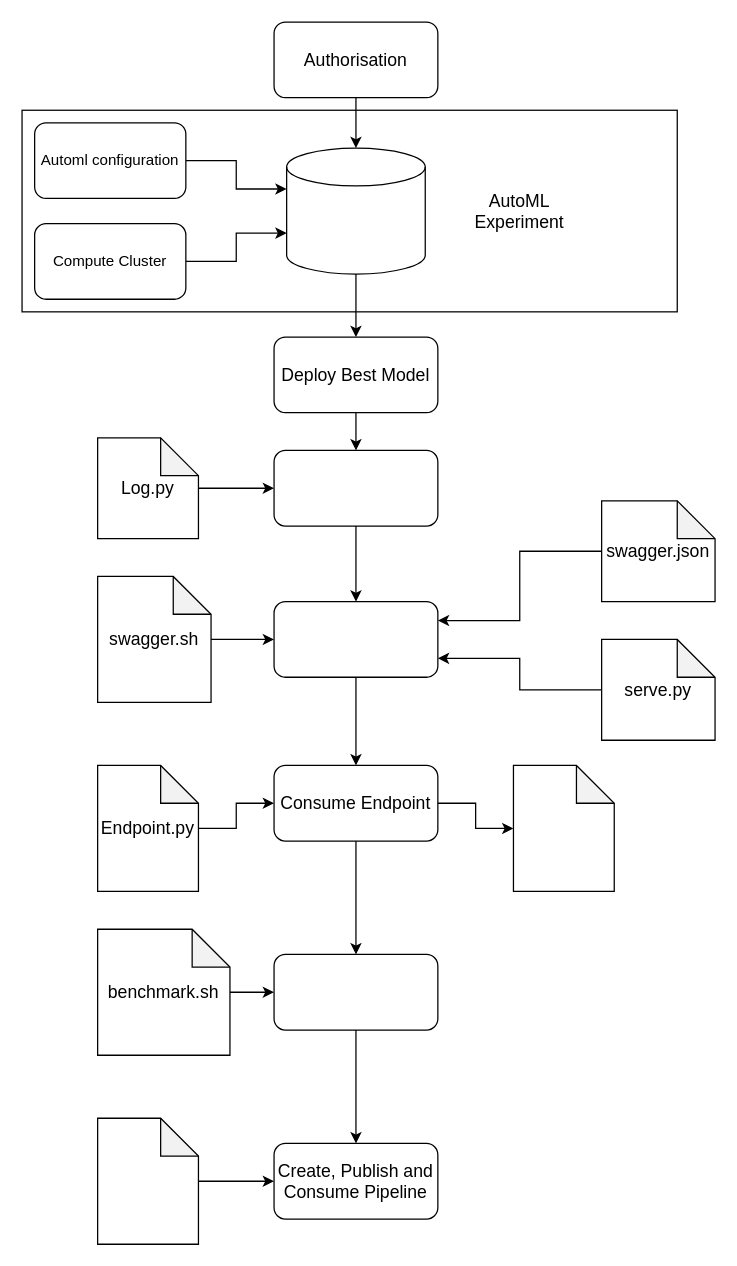
Some shapes in this 737 by 1266 pixel diagram are drawn without their labels. Each missing label, with the centre of its shape:
"Bank Dataset" belongs at point 355,210.
"Benchmark Model" belongs at point 355,991.
"data.json" belongs at point 563,827.
"Enable Application Insights" belongs at point 355,487.
"Jupyter Notebook" belongs at point 147,1180.
"Swagger Doc" belongs at point 355,638.
